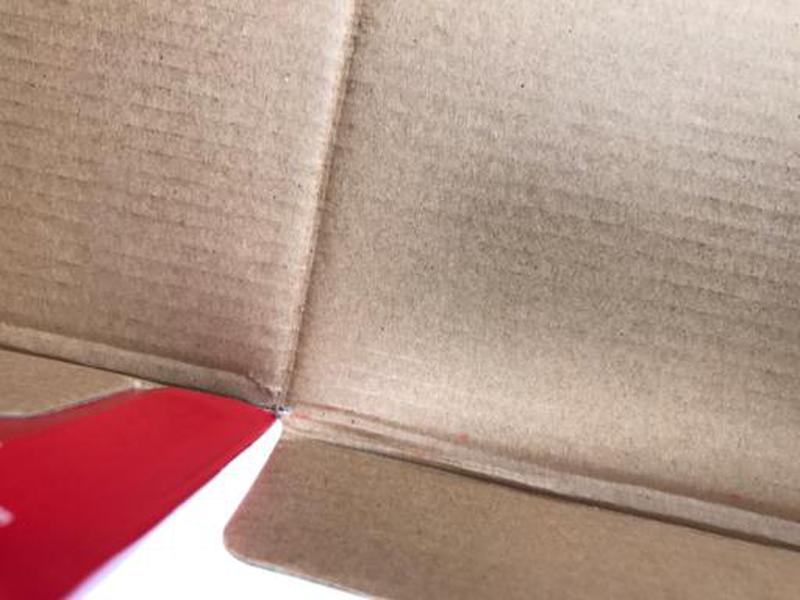cardboard: (2, 2, 800, 600)
